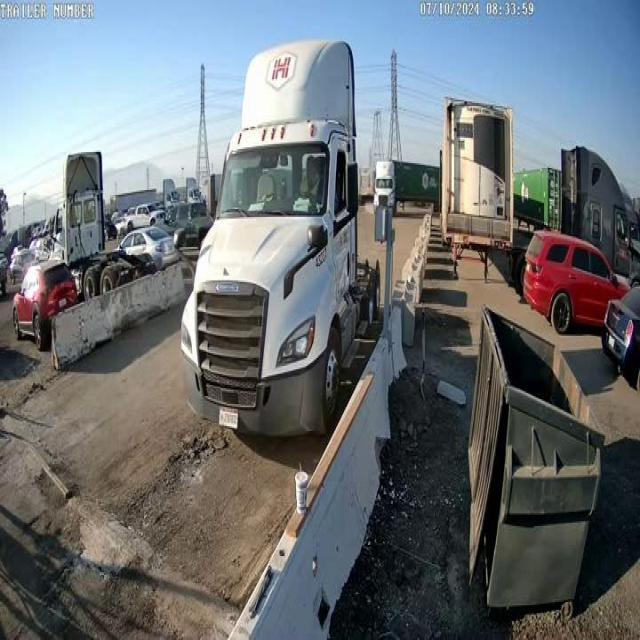TRUCK_OUT: (180, 37, 380, 440)
